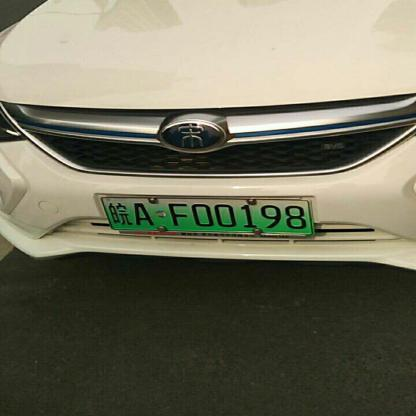lp: (102, 198, 312, 234)
